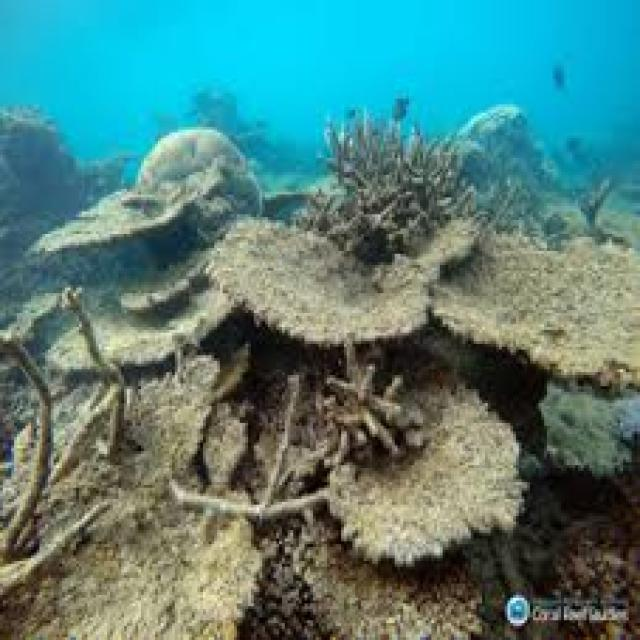Dead Coral: (0, 363, 273, 640), (205, 168, 488, 351), (428, 149, 640, 388), (293, 367, 527, 572), (25, 99, 234, 259)
